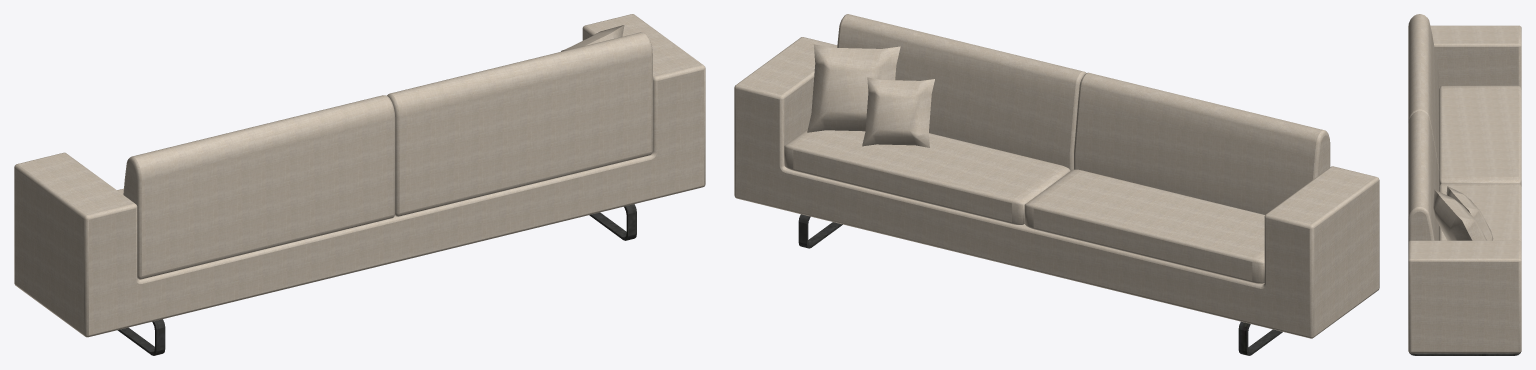
Rendered from Akademik_kanapa1-ex-tex.fbx.
3 views of the same model, side by side, from view 1: azimuth 30°, elevation 25°; view 2: azimuth 150°, elevation 25°; view 3: azimuth 270°, elevation 25° (orthographic). The views are drawn at different scales.
Parts seen in each view (by area): view 1: Model; view 2: Model; view 3: Model.
Boxes of the visible parts, x1,y1,x2,y2 form: Model: [14, 14, 705, 355]; Model: [734, 14, 1379, 355]; Model: [1408, 14, 1521, 355].
Bounding box in the file's own units: 3.1 × 0.9499 × 0.6325.
